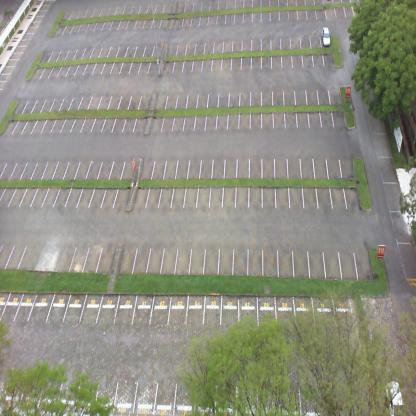car: (384, 375, 405, 414), (320, 25, 332, 48)
